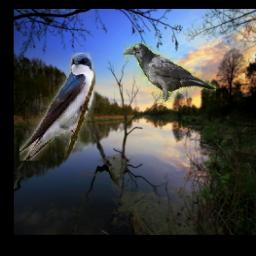Crow: (123, 42, 215, 102)
Swallow: (19, 53, 95, 162)
